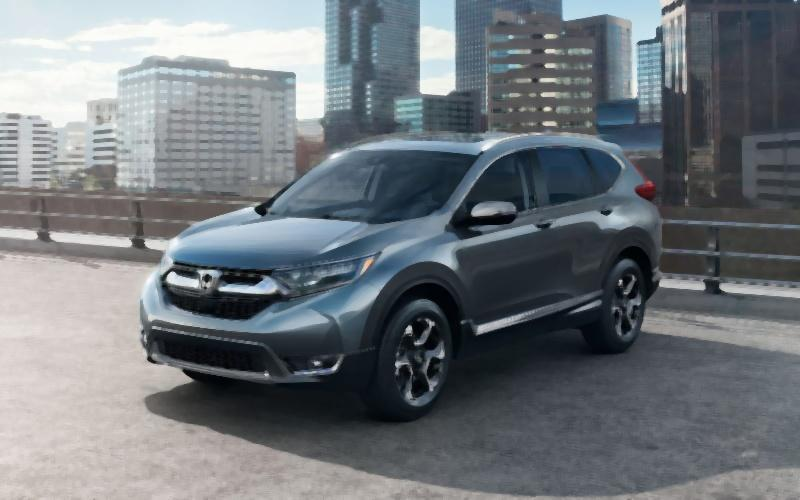Car hood: (163, 203, 391, 272)
Fender - -F-L-: (359, 206, 474, 368)
Fender - -R-L-: (616, 182, 662, 255)
Front bumper: (133, 290, 387, 404)
Headlight - -L-: (269, 248, 386, 303)
Headlight - -R-: (155, 244, 179, 281)
Passenger-s door - -F-L-: (466, 132, 553, 333)
Passenger-s door - -R-L-: (550, 131, 627, 319)
Rear bumper: (644, 230, 670, 308)
Rear light - -L-: (618, 144, 659, 203)
Side bumper - -L-: (451, 284, 611, 361)
Side mirror - -L-: (463, 194, 521, 229)
